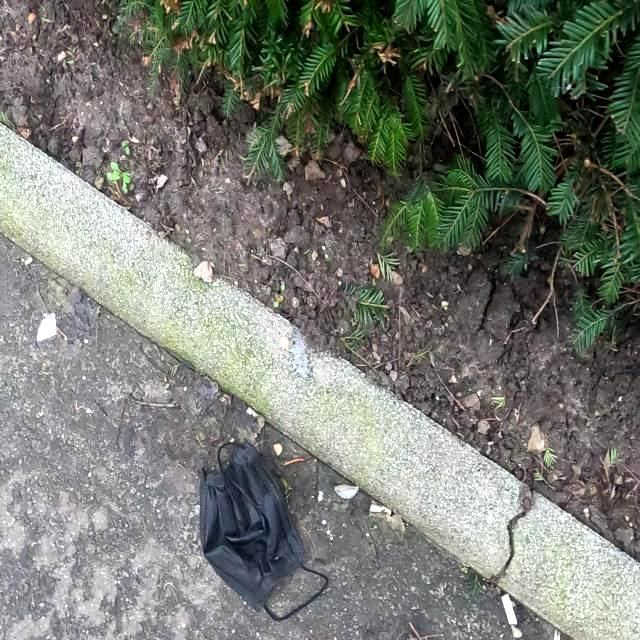Mask: (194, 435, 330, 623)
